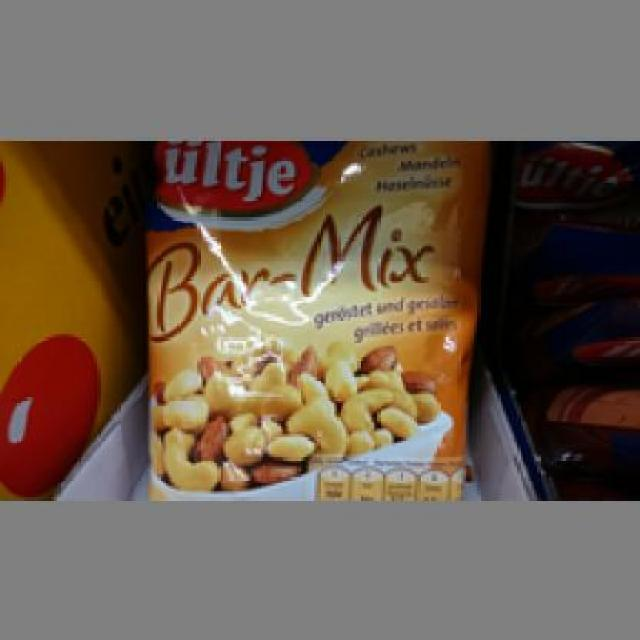Nuts: (140, 137, 489, 500)
